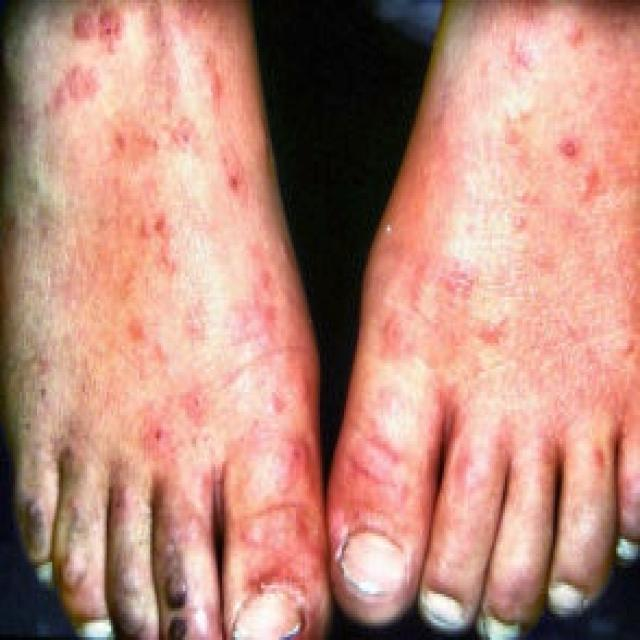Warts-Molluscum-and-other-Viral-Infections: (53, 9, 640, 553)
